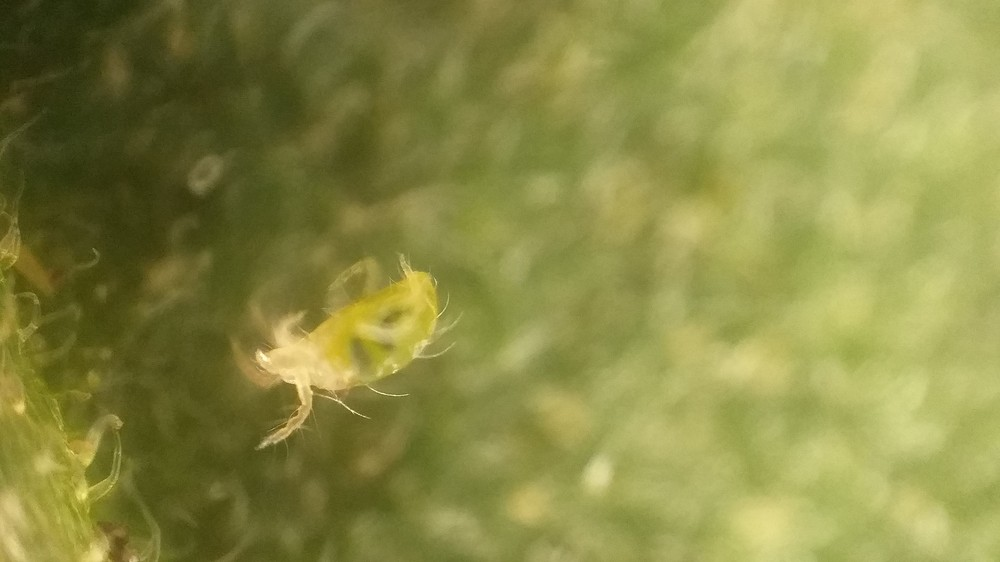Aracnido Rojo: (208, 244, 477, 456)
